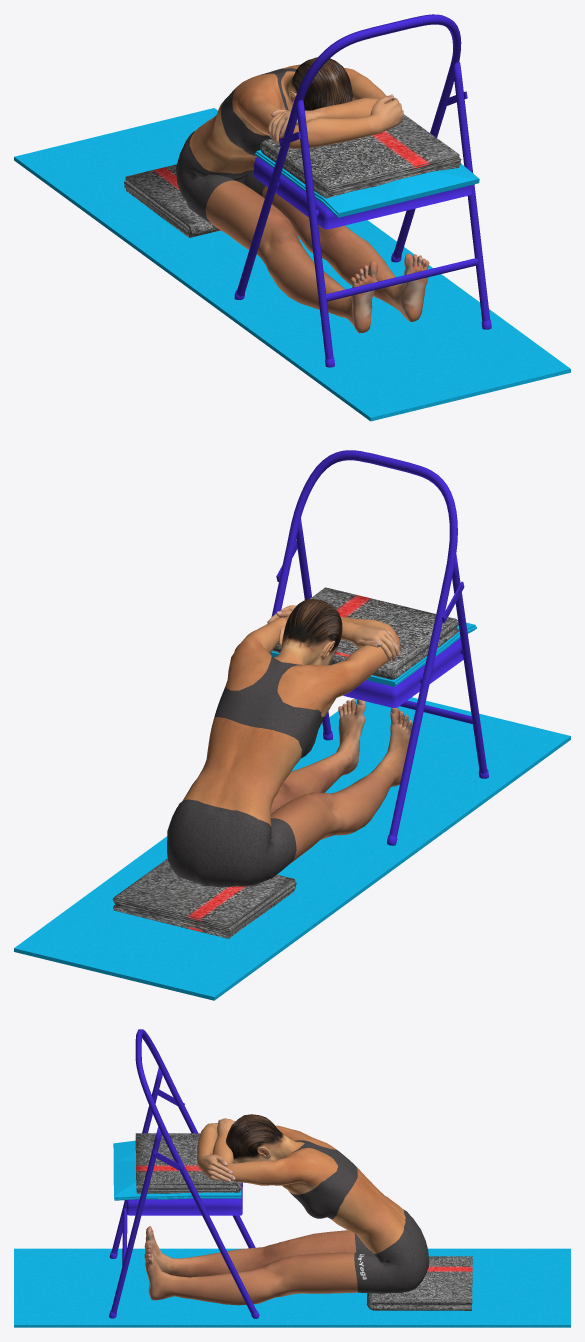
The model's file is paschimottanasana.glb.
3 views of the same model, one above another, from view 1: azimuth 30°, elevation 25°; view 2: azimuth 150°, elevation 25°; view 3: azimuth 270°, elevation 25° (orthographic). The views are drawn at different scales.
Visible parts, largest first — view 1: mat_001-material (×2), FemaleSkin-material, plastik_blue_001-material, Blanket_001-material (×2); view 2: mat_001-material (×2), FemaleSkin-material, Blanket_001-material (×2), plastik_blue_001-material; view 3: mat_001-material (×2), FemaleSkin-material, plastik_blue_001-material, Blanket_001-material (×2).
Part boxes in pixels (box(x1,y1,x2,y2)): mat_001-material (×2): box(14, 108, 570, 421); FemaleSkin-material: box(176, 57, 429, 333); plastik_blue_001-material: box(234, 14, 491, 367); Blanket_001-material (×2): box(124, 114, 461, 237); mat_001-material (×2): box(14, 622, 570, 1000); FemaleSkin-material: box(167, 599, 412, 887); Blanket_001-material (×2): box(112, 587, 459, 938); plastik_blue_001-material: box(271, 450, 488, 845); mat_001-material (×2): box(14, 1140, 570, 1327); FemaleSkin-material: box(144, 1114, 429, 1305); plastik_blue_001-material: box(109, 1029, 259, 1318); Blanket_001-material (×2): box(135, 1133, 472, 1310).
Size of the model in its own units: 2 by 3 by 6.17.
4 materials, 3 textured.
